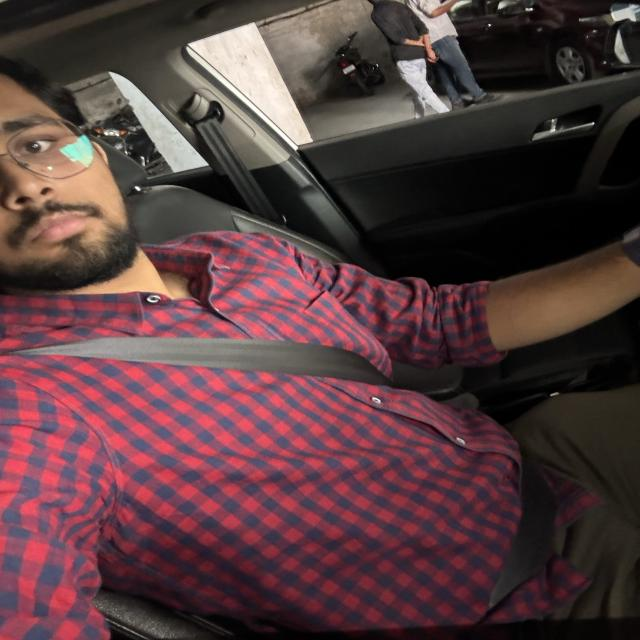seatbelt: (0, 307, 550, 526)
